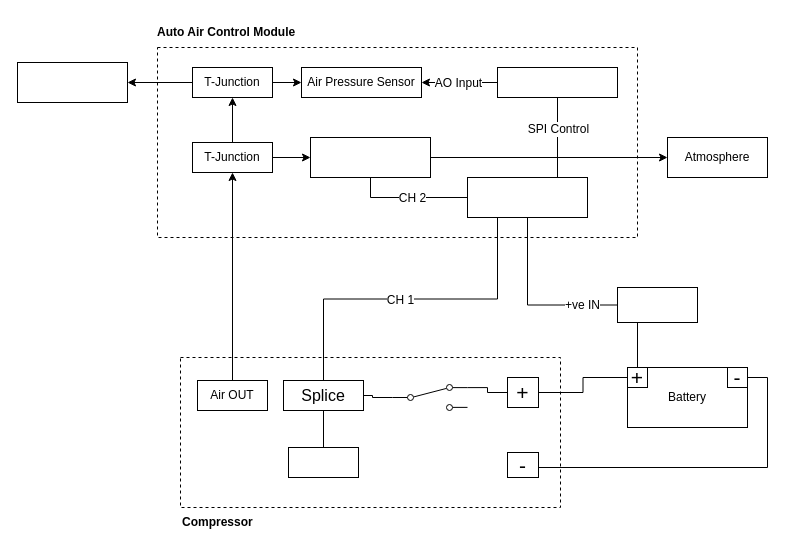
This 786x554 diagram has some shape labels left out. Here are the shapes that lost their labels. From the top down, the centre of each, then its label:
pixel 72 82: Tyre Air Pressure
pixel 557 82: Microcomputer
pixel 370 157: Solenoid Valve Normally Closed
pixel 527 197: Controllable Relay
pixel 657 304: Fuse Block
pixel 323 462: Motor
